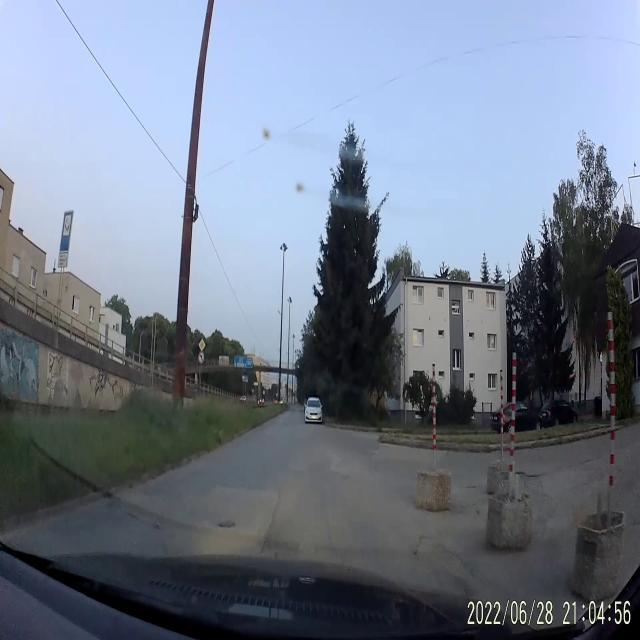Pothole: (415, 531, 472, 585), (215, 512, 238, 532)
